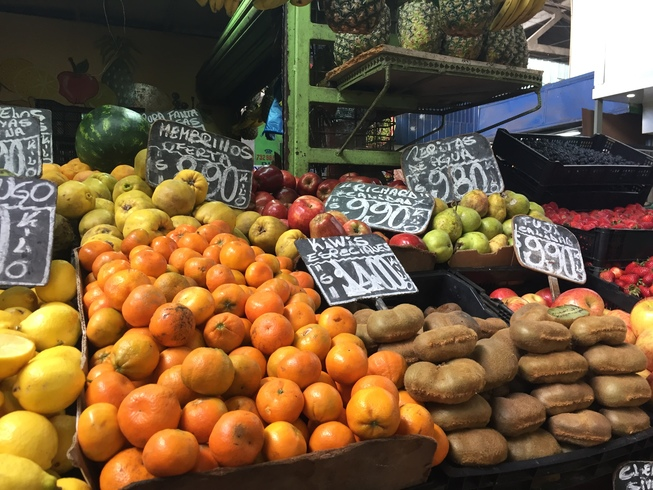precio: (295, 224, 419, 309), (148, 120, 258, 207), (324, 173, 439, 239), (403, 140, 513, 207), (512, 207, 590, 288), (1, 181, 58, 283), (1, 109, 64, 179), (146, 106, 215, 138)
